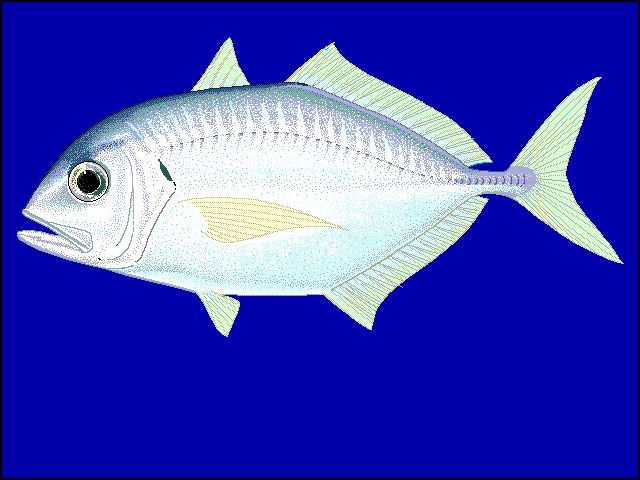fish: (16, 38, 625, 340)
